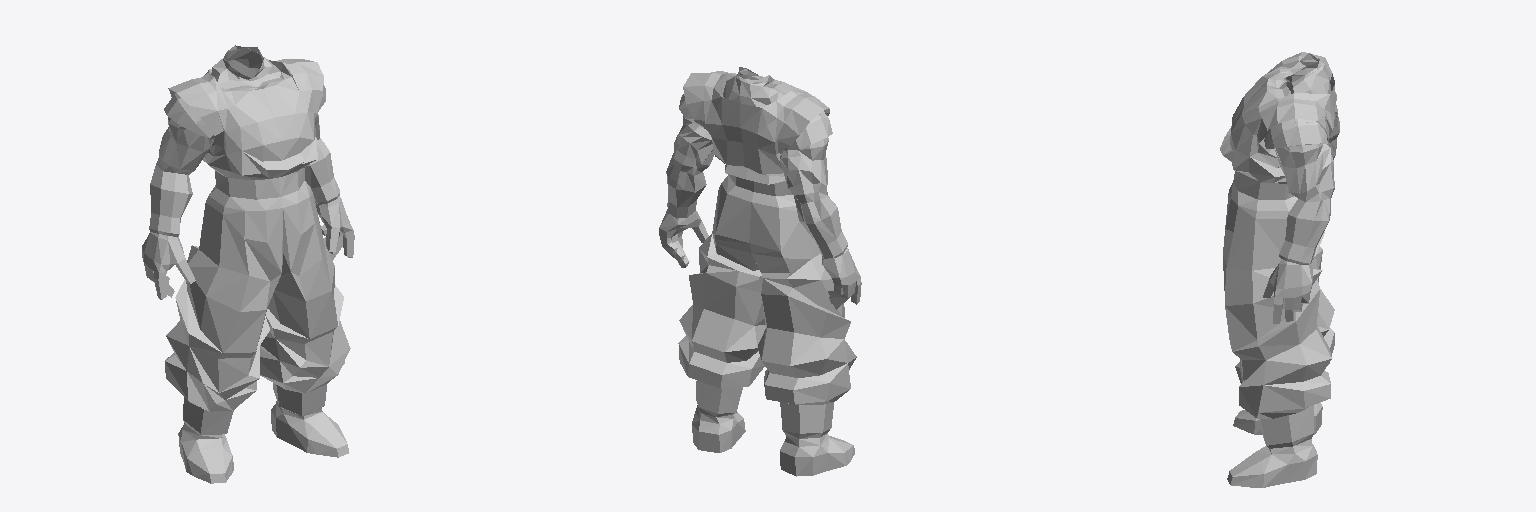
3 renders of one model, left to right at view 1: azimuth 30°, elevation 25°; view 2: azimuth 150°, elevation 25°; view 3: azimuth 270°, elevation 25°, orthographic.
Parts seen in each view (by area): view 1: Body; view 2: Body; view 3: Body.
Boxes of the visible parts, x1,y1,x2,y2 form: Body: [142, 45, 354, 483]; Body: [659, 67, 861, 476]; Body: [1220, 52, 1339, 487].
Size of the model in its own units: 4.53 by 8.83 by 2.46.